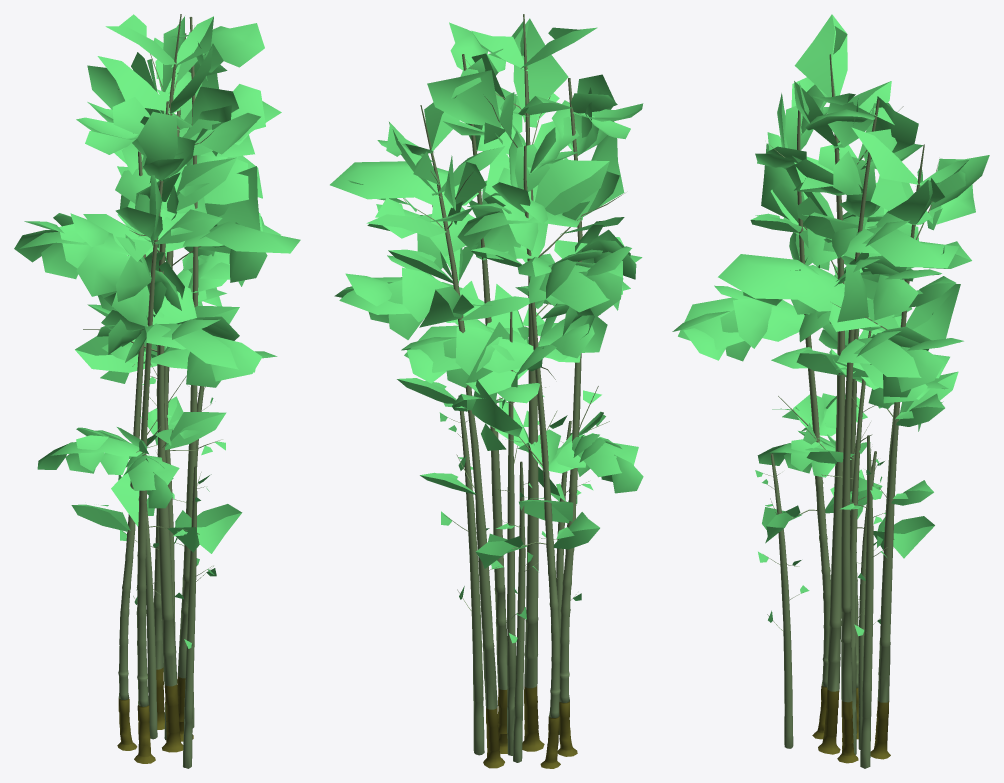
File: Bamboo_Cluster2_LOD0.fbx
3 renders of one model, left to right at view 1: azimuth 30°, elevation 25°; view 2: azimuth 150°, elevation 25°; view 3: azimuth 270°, elevation 25°, orthographic. The views are drawn at different scales.
Parts seen in each view (by area): view 1: Bamboo_Cluster2_LOD0; view 2: Bamboo_Cluster2_LOD0; view 3: Bamboo_Cluster2_LOD0.
Part boxes in pixels (x1=…): Bamboo_Cluster2_LOD0: x1=14, y1=14, x2=300, y2=768; Bamboo_Cluster2_LOD0: x1=330, y1=14, x2=643, y2=768; Bamboo_Cluster2_LOD0: x1=672, y1=14, x2=989, y2=768.
Size of the model in its own units: 922 by 2434 by 994.
